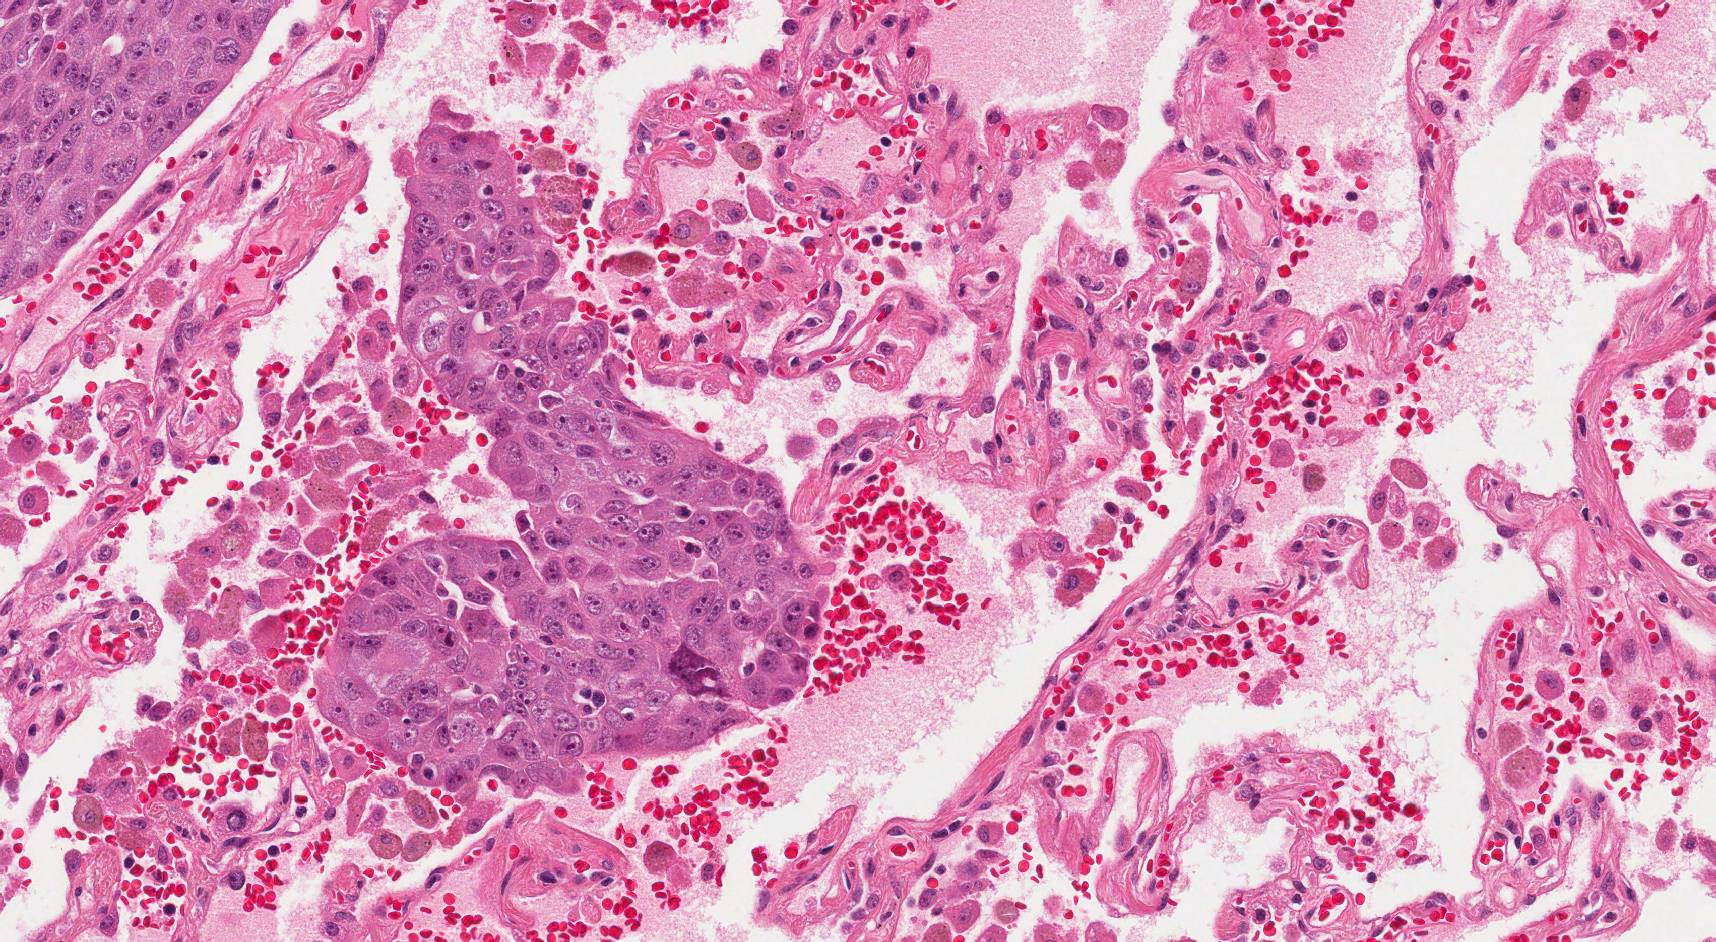stas: (312, 100, 823, 799)
